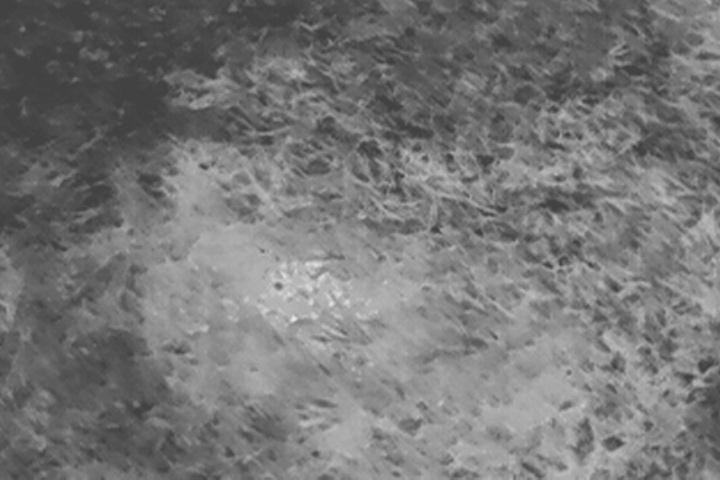landmine: (239, 253, 403, 366)
